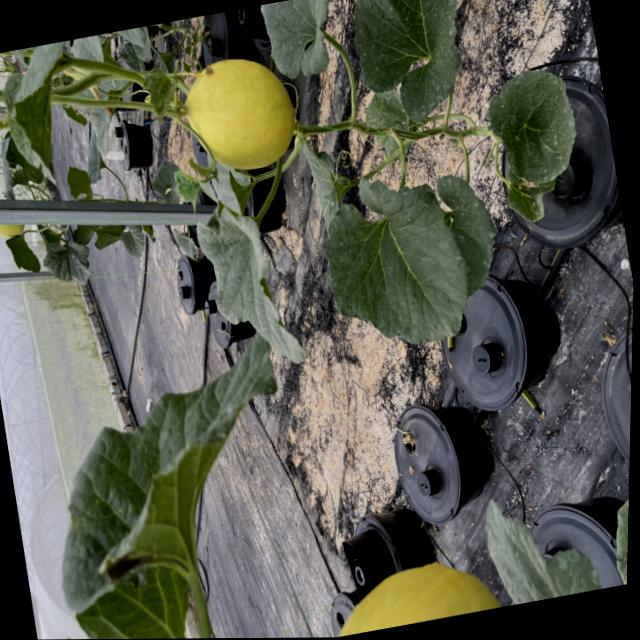downy mildew: (345, 0, 474, 131), (482, 60, 586, 190), (604, 480, 629, 585)
healthy: (311, 160, 480, 358), (191, 191, 321, 383), (259, 0, 345, 82)
powdery mildew: (439, 166, 510, 309), (41, 229, 100, 299)
